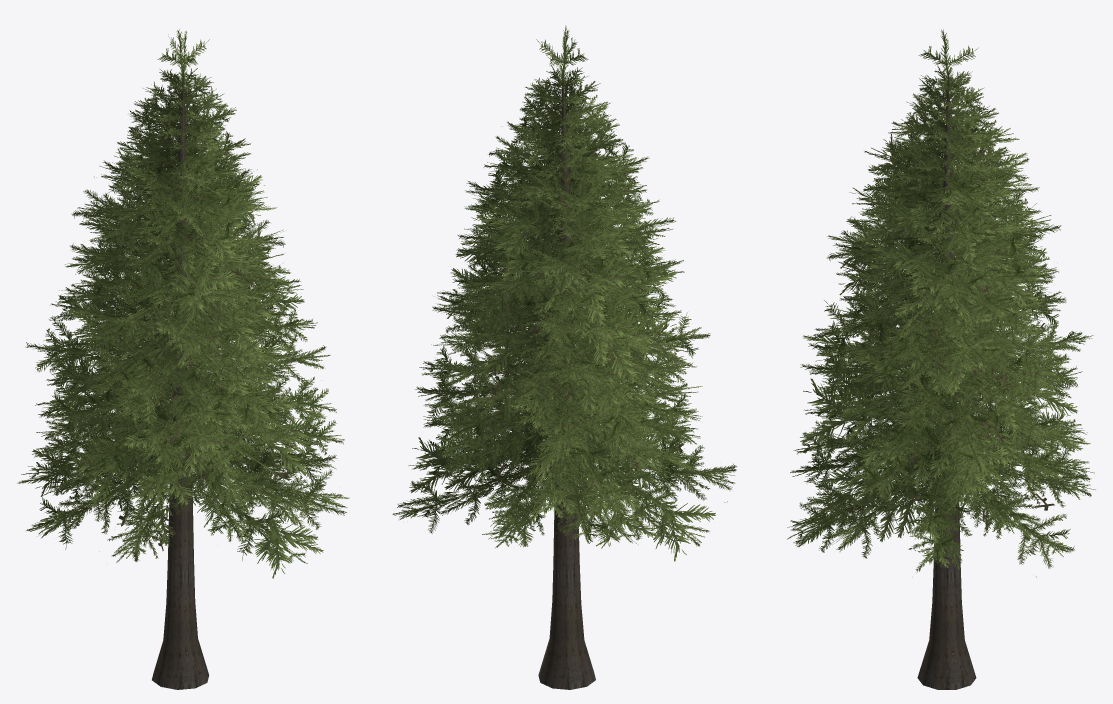
Rendered from Fir_3.gltf.
3 views of the same model, side by side, from view 1: azimuth 30°, elevation 25°; view 2: azimuth 150°, elevation 25°; view 3: azimuth 270°, elevation 25° (orthographic).
Visible parts, largest first — view 1: Fir_3; view 2: Fir_3; view 3: Fir_3.
Part boxes in pixels (left/top/right/bottom): Fir_3: left=17, top=29, right=349, bottom=689; Fir_3: left=392, top=25, right=737, bottom=689; Fir_3: left=787, top=29, right=1095, bottom=689.
Bounding box in the file's own units: 9.03 × 18.3 × 8.23.
2 materials, 2 textured.
